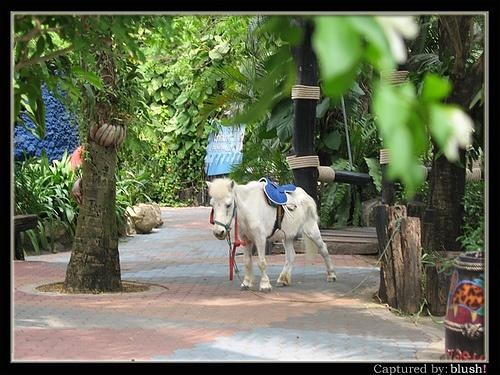horse: (206, 177, 337, 291)
